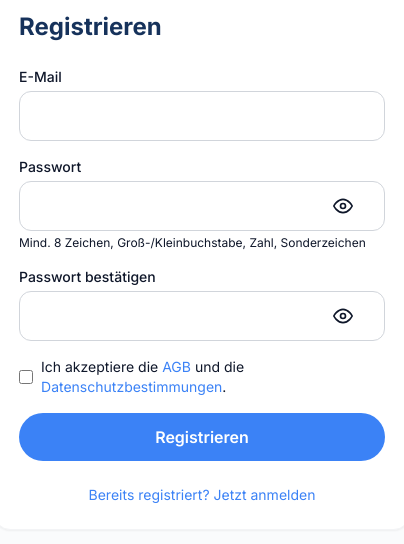
RegisterForm › zeigt einen Fehler bei nicht übereinstimmenden Passwörtern
Step 1. Type "test@example.com" into the field labelled "E-Mail" → (202, 116), box [19,91,385,141]
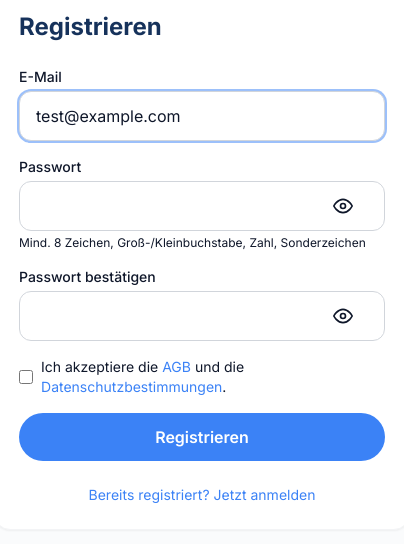
Step 2. Type "Correct1!" into the password field labelled "Passwort" → (202, 206), box [19,181,385,231]
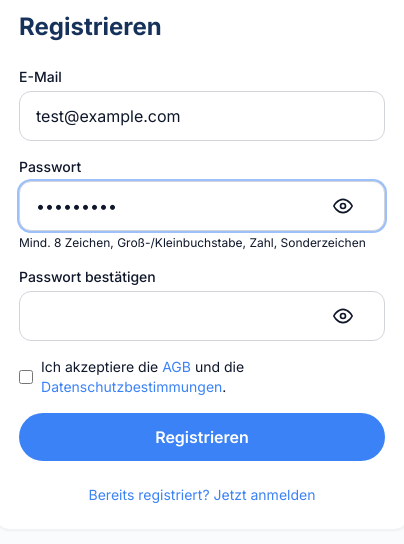
Step 3. Type "anderes-passwort" into the password field labelled "Passwort bestätigen" → (202, 316), box [19,291,385,341]
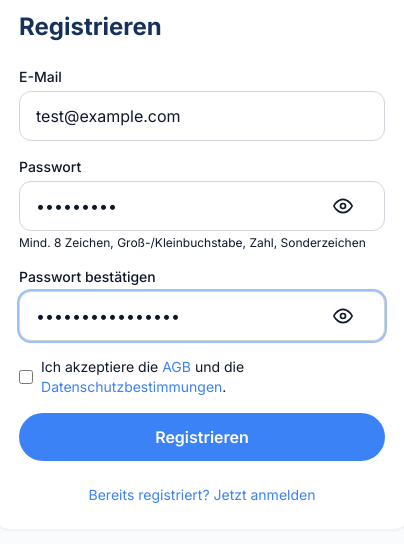
Step 4. Click the checkbox → (26, 377), box [19,369,33,385]
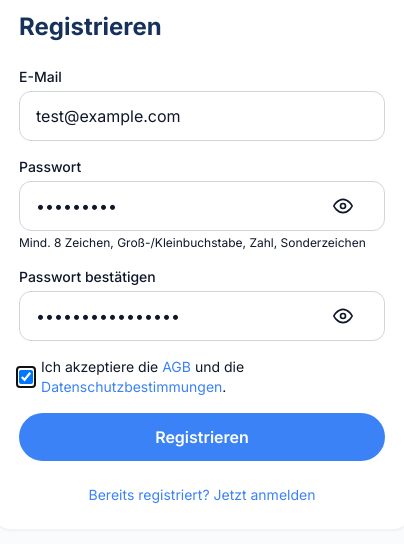
Step 5. Click the button "Registrieren" → (202, 437), box [19,413,385,461]
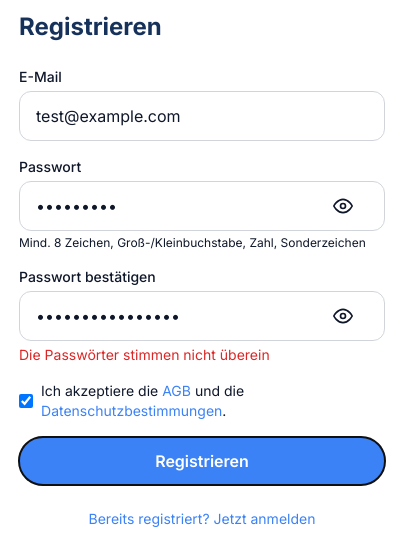
expect the text "Die Passwörter stimmen nicht überein" is shown: met, box [19,346,270,363]
